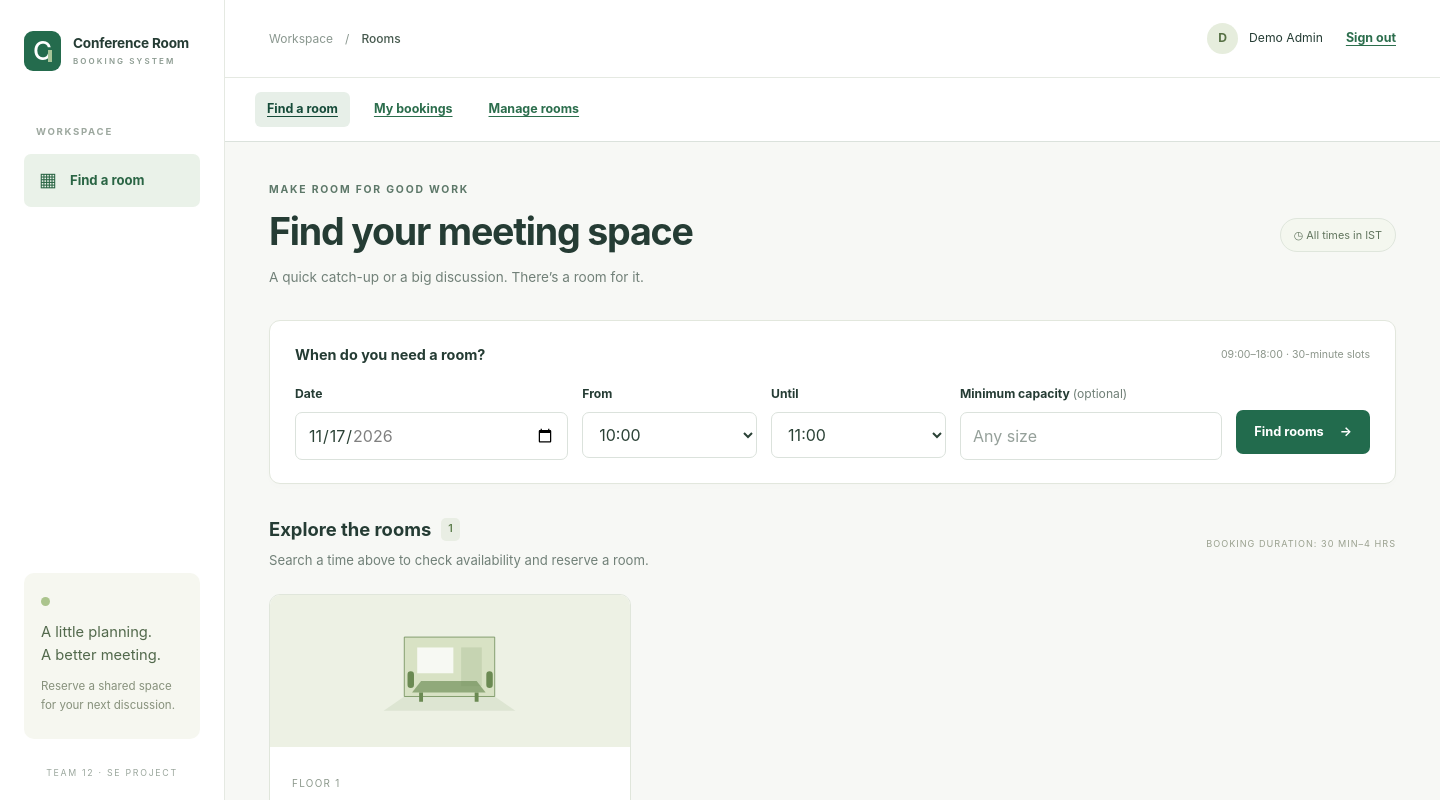
TC13 / TC14 admin room UI › keeps shared sign-out errors visible on the admin screen
The width and height of the screenshot is (1440, 800).
Click the button "Manage rooms": (534, 109) [476,92,591,127]
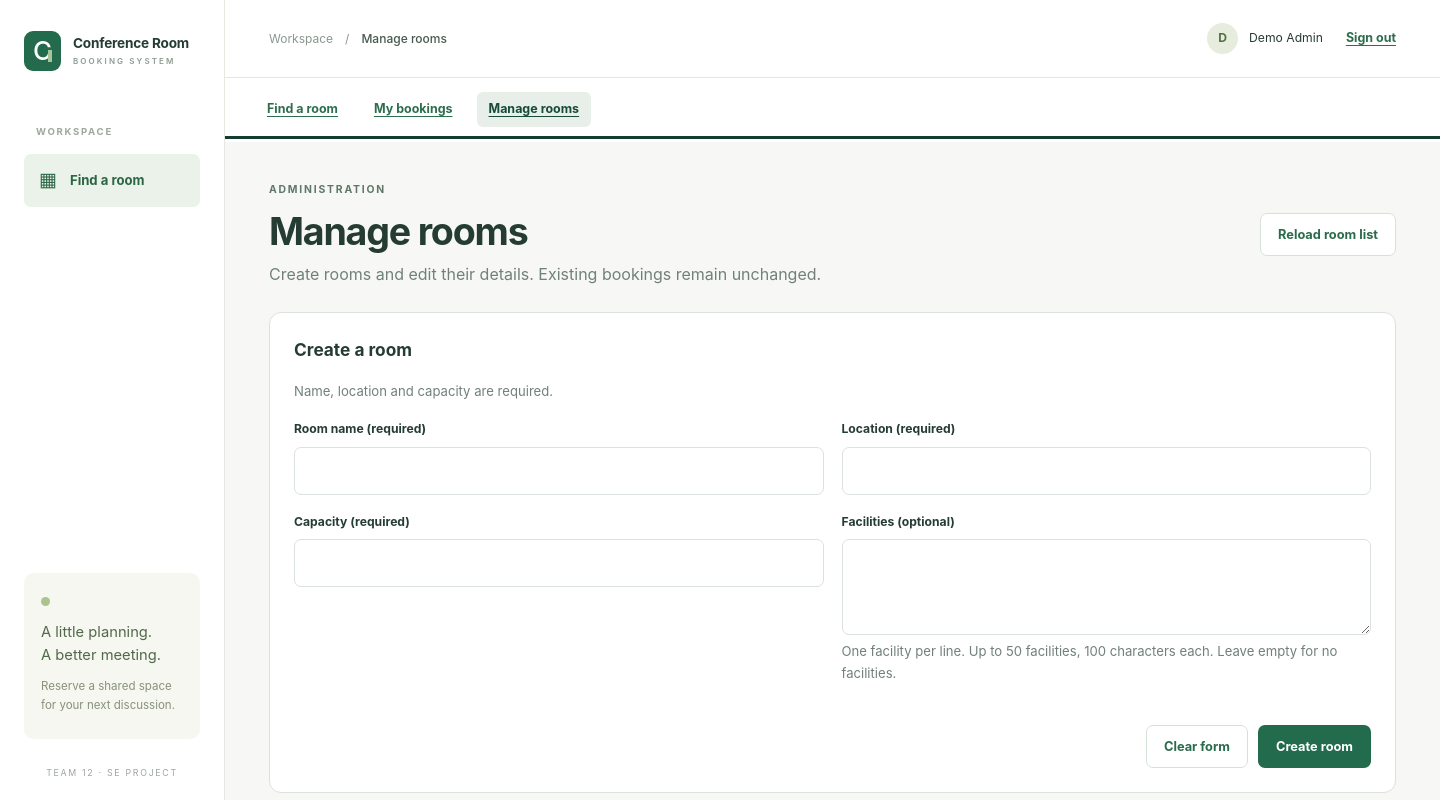
Check: the heading "Manage rooms" is shown, box [269,209,528,254]
Click the button "Sign out": (1371, 38) [1346,29,1396,48]
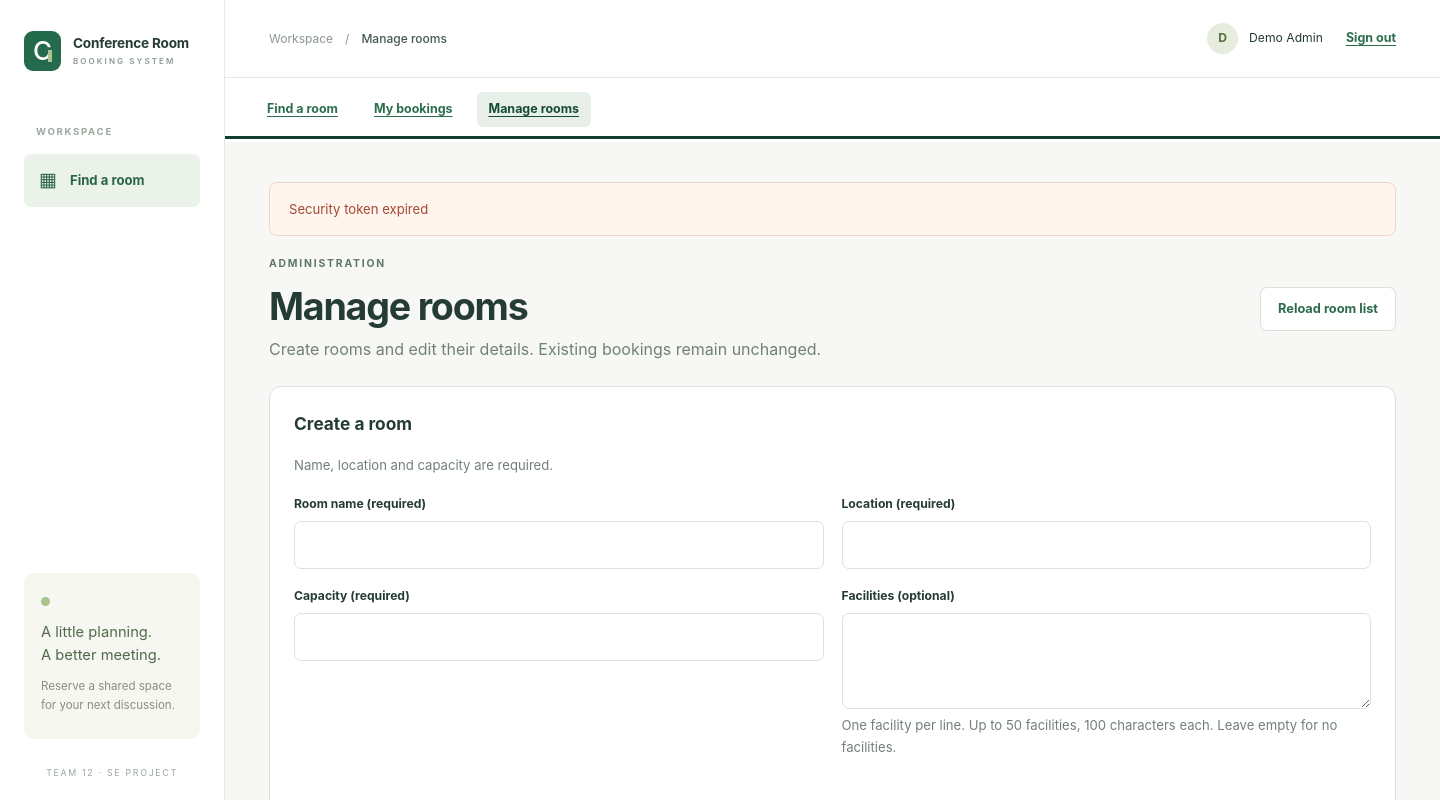
Check: the text "Security token expired" is shown, box [269,182,1396,236]
